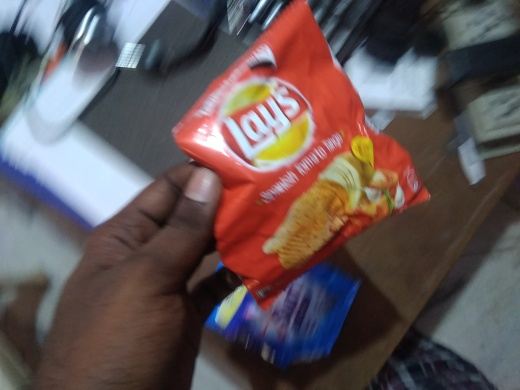lays: (155, 1, 463, 294)
surf: (211, 251, 372, 368)
